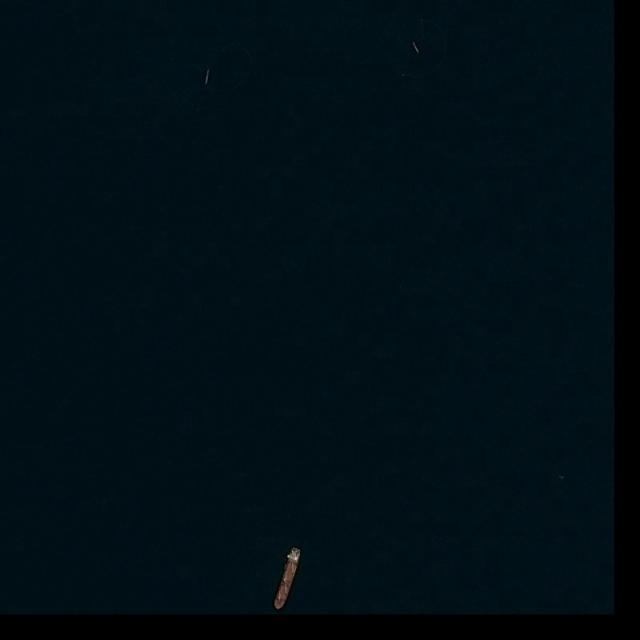ship: (270, 546, 306, 612), (204, 69, 212, 86), (411, 40, 420, 55)
